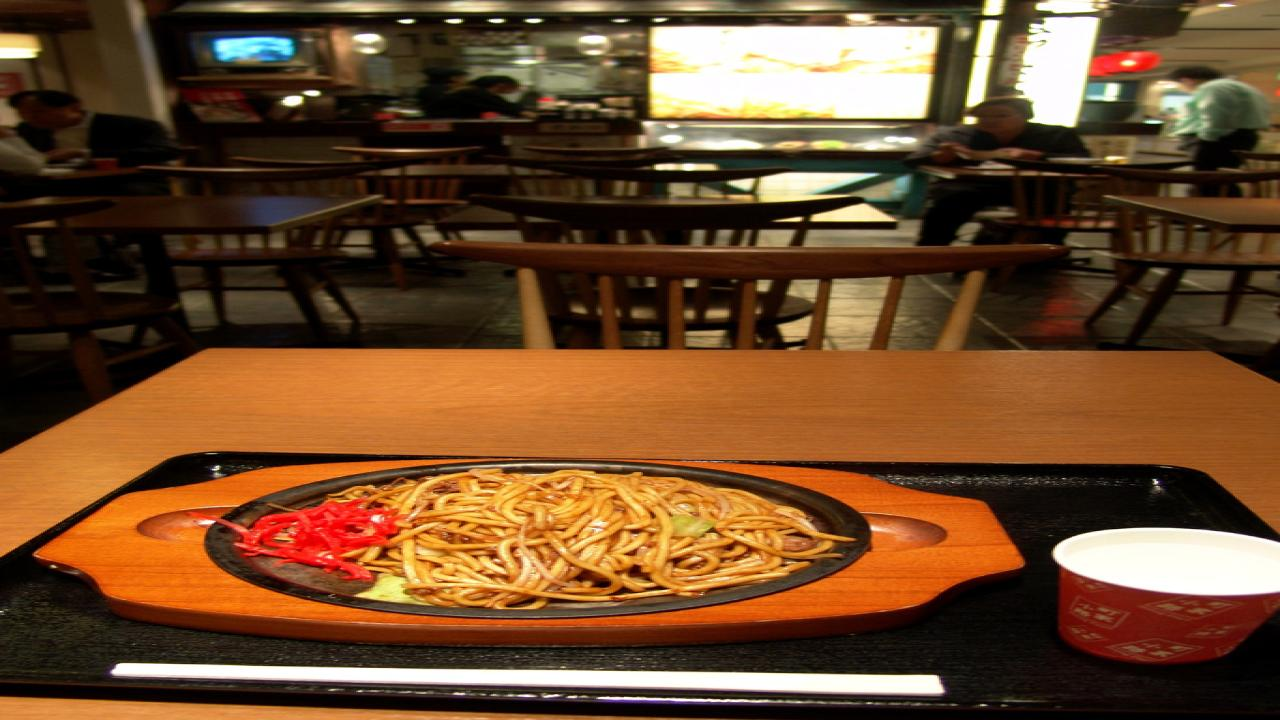chopstick: (115, 661, 953, 697)
